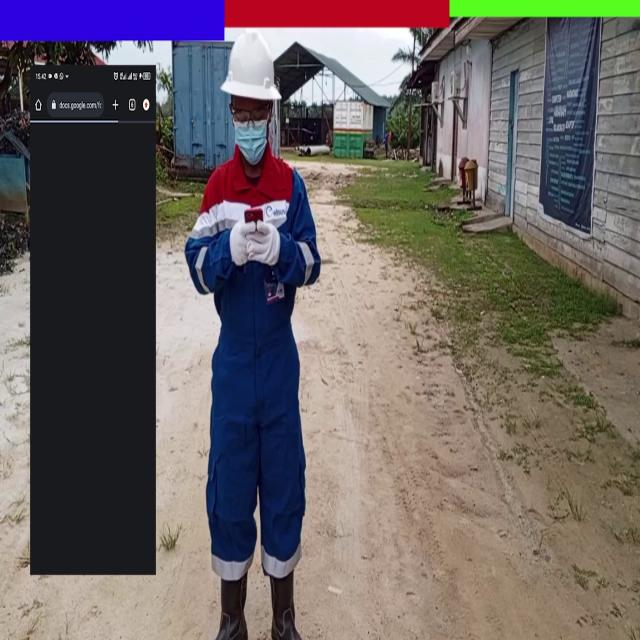Gloves: (248, 220, 280, 266), (230, 215, 256, 265)
Hardhat: (220, 36, 283, 109)
Mask: (234, 118, 268, 167)
Overall Suit: (185, 154, 322, 579)
Safety Boots: (271, 568, 303, 640), (214, 574, 247, 640)
